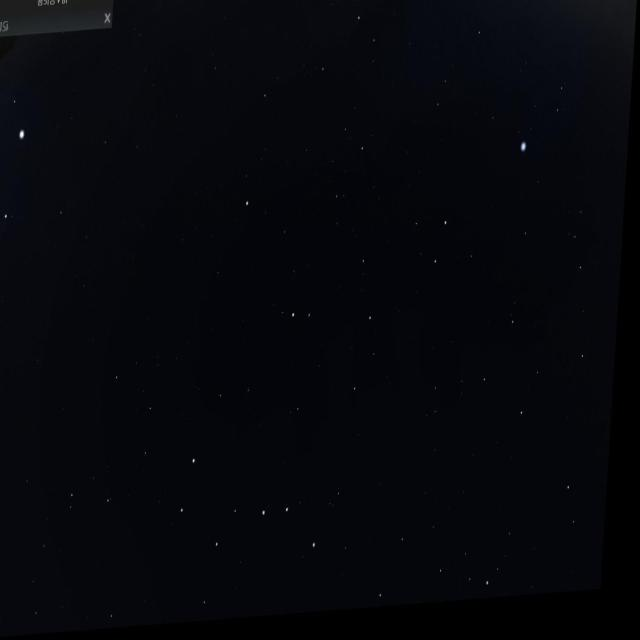lyra: (514, 69, 574, 168)
ursa_major: (173, 436, 340, 584)
